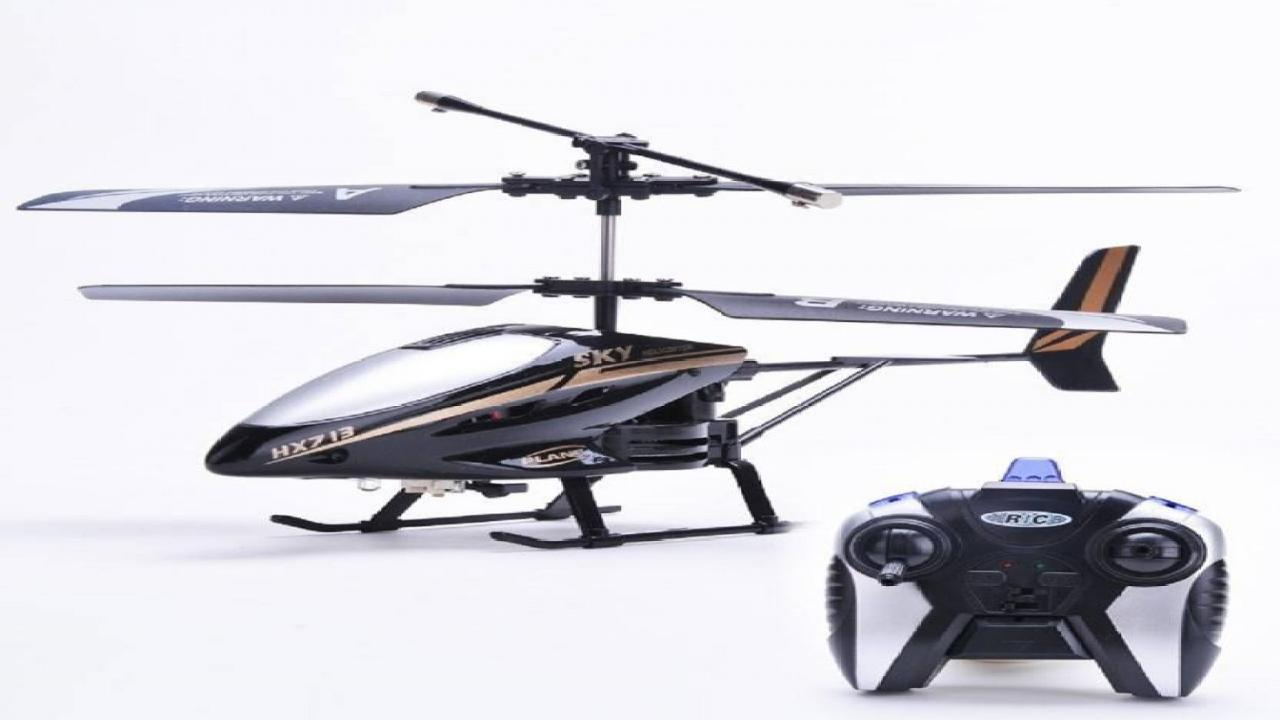Helicopter: (4, 85, 1280, 563)
